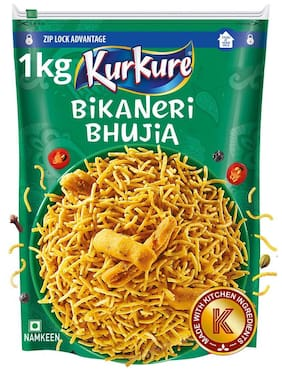kurkure: (73, 48, 189, 83)
wrapper: (59, 107, 207, 308)
